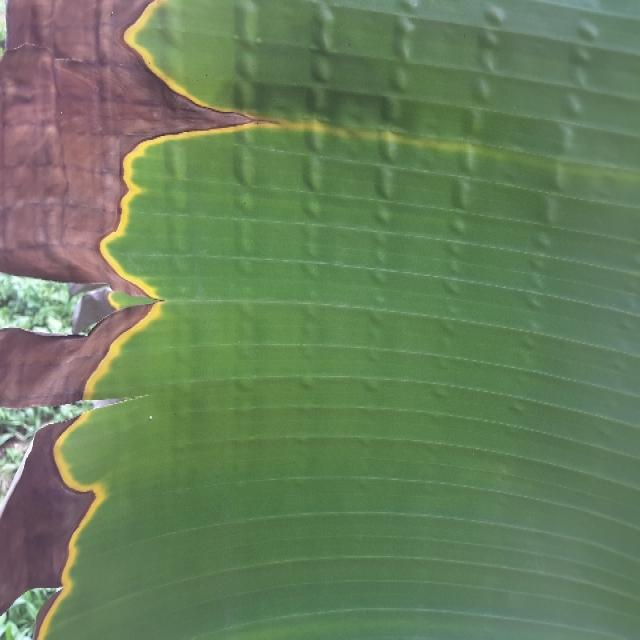Cordana: (32, 0, 289, 640), (216, 58, 562, 196)
